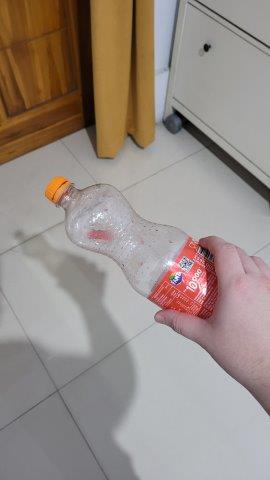botolplastik: (43, 175, 234, 327)
